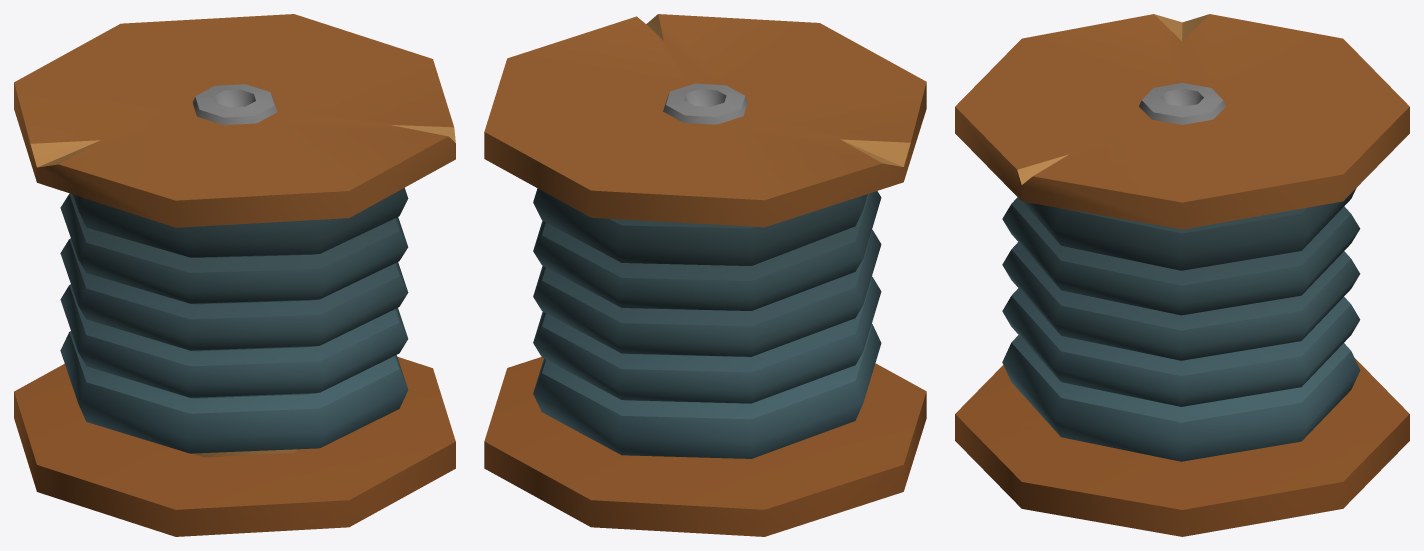
The model's file is Spool_1_1.glb.
3 views of the same model, side by side, from view 1: azimuth 30°, elevation 25°; view 2: azimuth 150°, elevation 25°; view 3: azimuth 270°, elevation 25° (orthographic).
Parts seen in each view (by area): view 1: Spool_1_1; view 2: Spool_1_1; view 3: Spool_1_1.
Boxes of the visible parts, <box> form: Spool_1_1: <box>14,14,455,536</box>; Spool_1_1: <box>484,14,926,536</box>; Spool_1_1: <box>955,14,1409,536</box>.
Bounding box in the file's own units: 1.21 × 1.02 × 1.21.
Materials: 2 (2 with a texture image).
